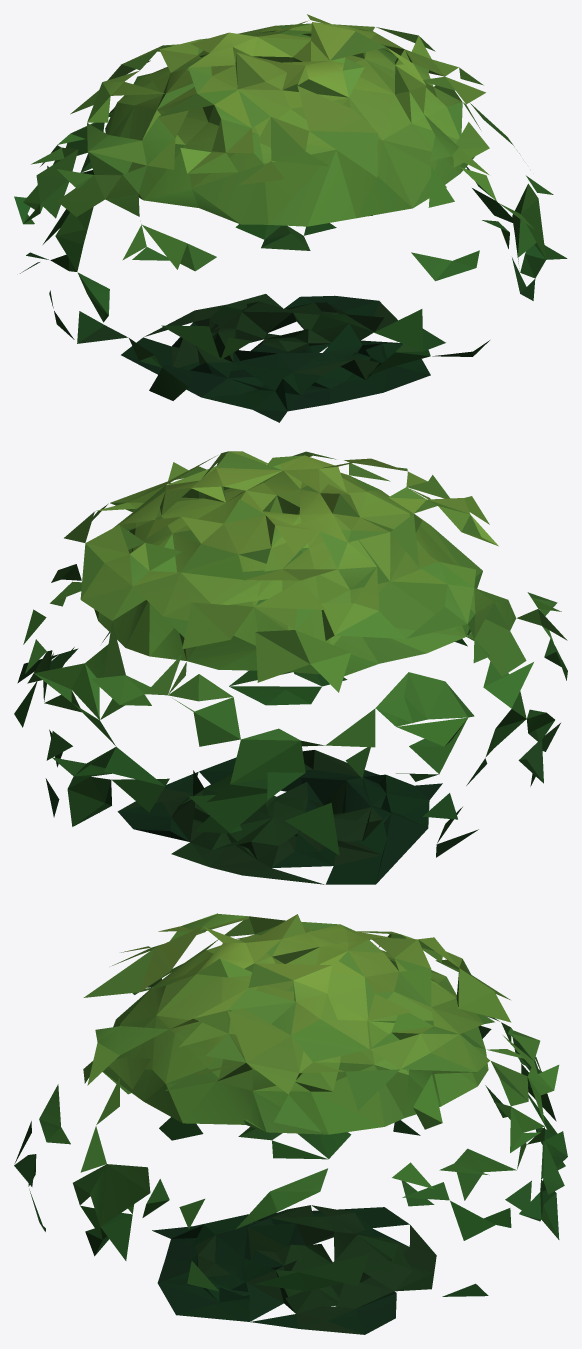
3 views of the same model, one above another, from view 1: azimuth 30°, elevation 25°; view 2: azimuth 150°, elevation 25°; view 3: azimuth 270°, elevation 25° (orthographic). The views are drawn at different scales.
Visible parts, largest first — view 1: output_unwrapped; view 2: output_unwrapped; view 3: output_unwrapped.
Boxes of the visible parts, x1,y1,x2,y2 form: output_unwrapped: [14, 14, 567, 422]; output_unwrapped: [14, 451, 567, 884]; output_unwrapped: [14, 913, 567, 1334].
Bounding box in the file's own units: 1.69 × 1.14 × 1.73.
